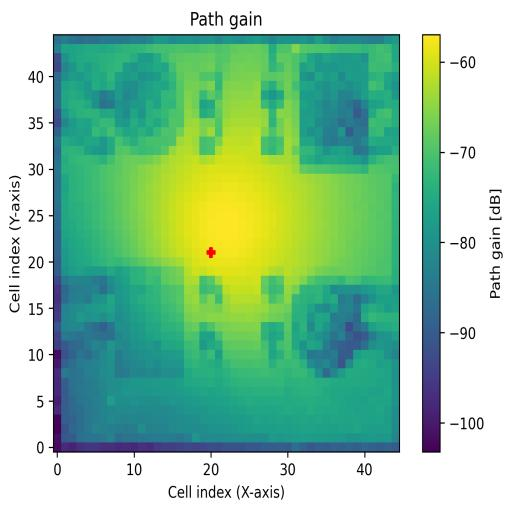Concrete: (300, 52, 368, 164)
Glass: (114, 52, 184, 154)
Metal: (292, 273, 376, 379)
Wood: (115, 266, 185, 378)
